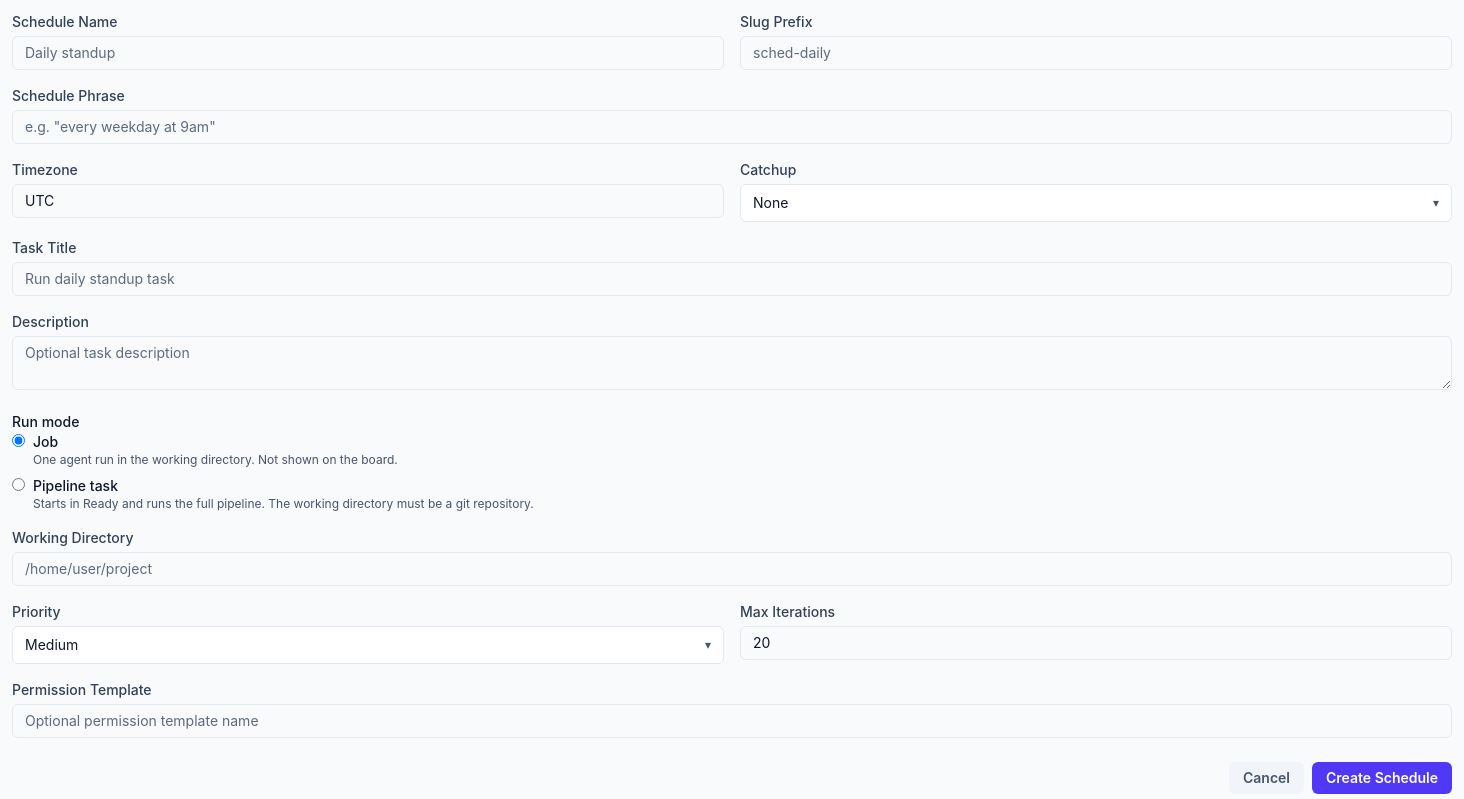
scheduleForm — run mode › shows the server error when cwd is not a git repository
Click the radio button with test id "schedule-run-mode-pipeline": coordinates (18, 484) [12, 478, 25, 491]
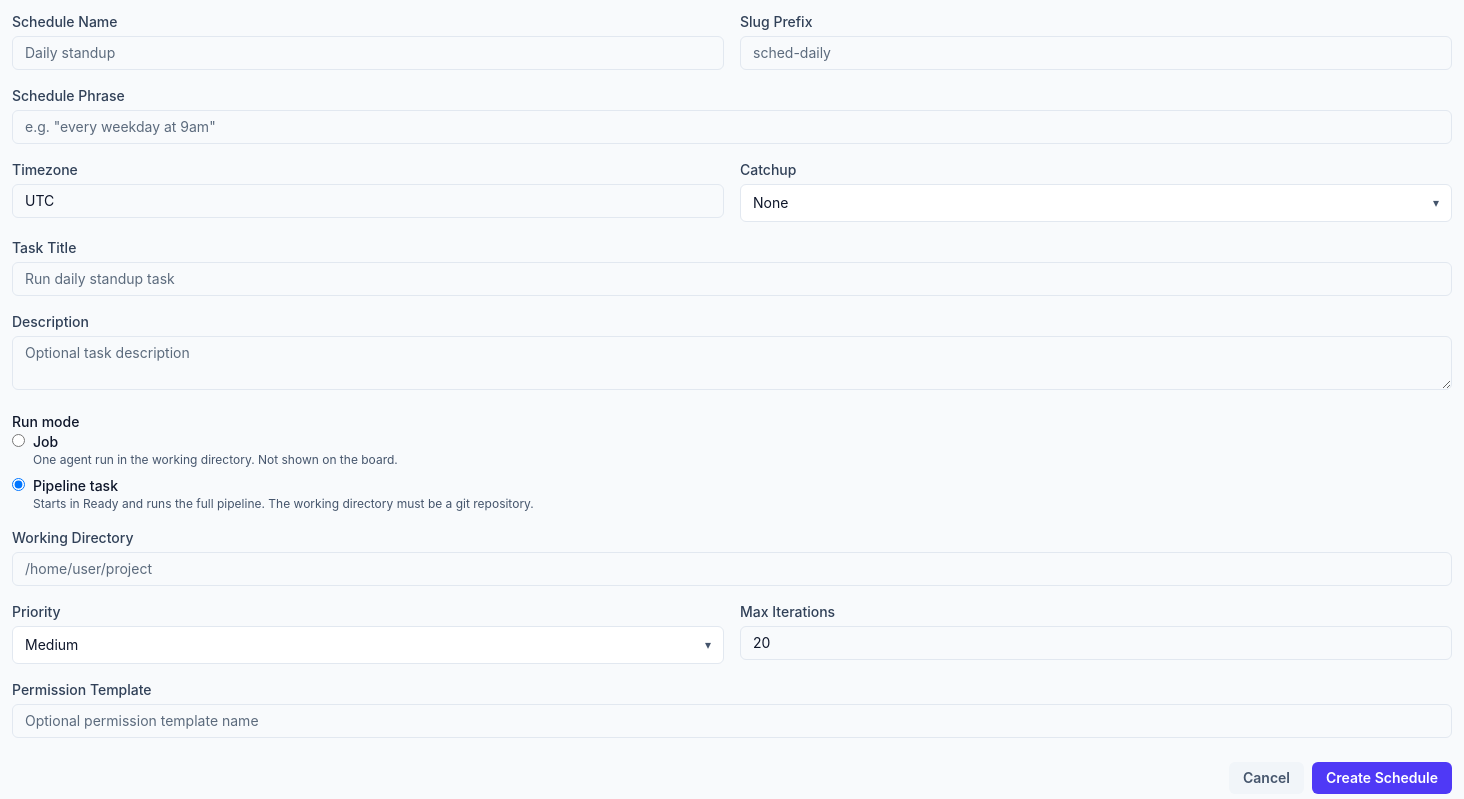
Submit the form
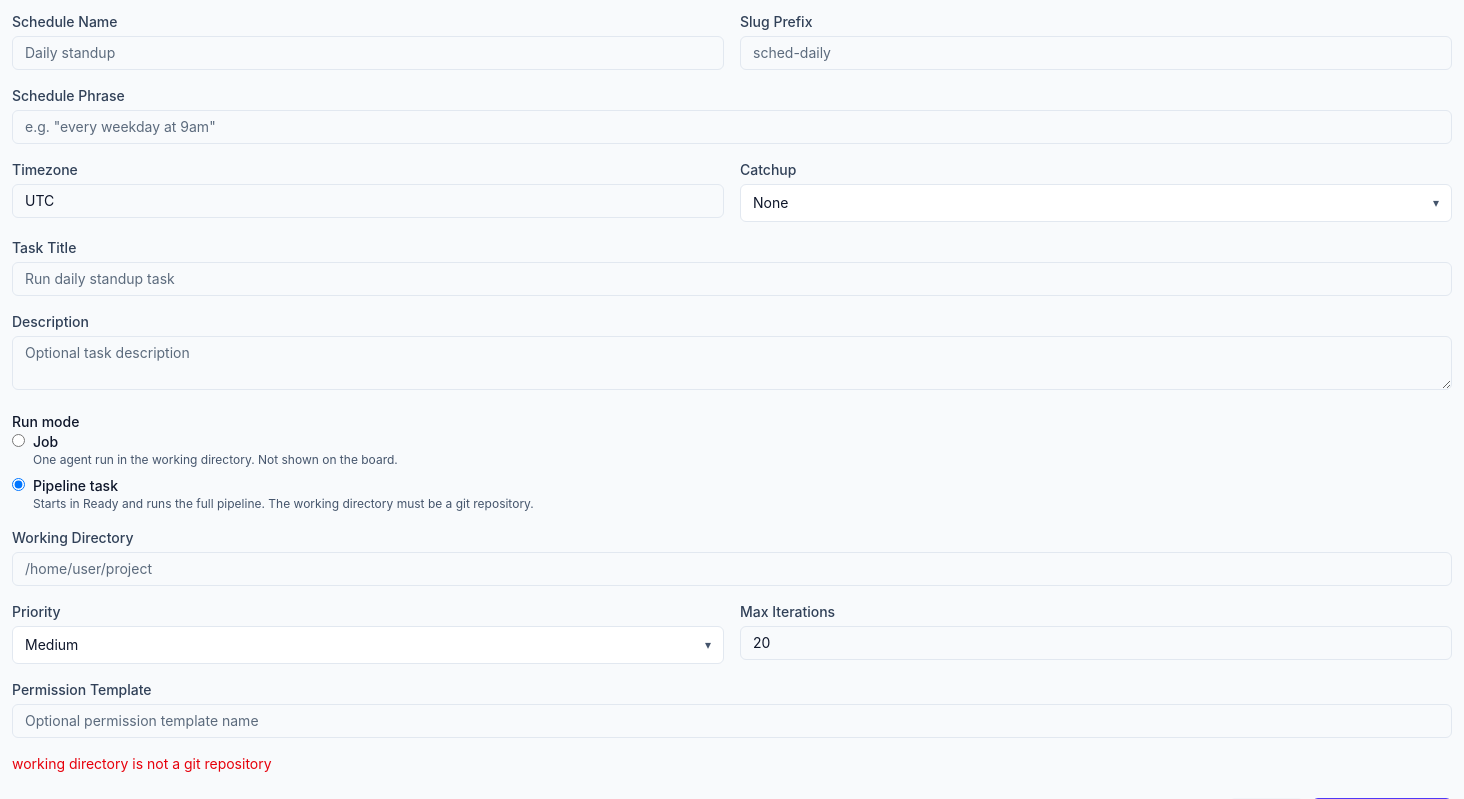
Expected: the message "working directory is not a git repository" is shown, [12, 755, 272, 772]
